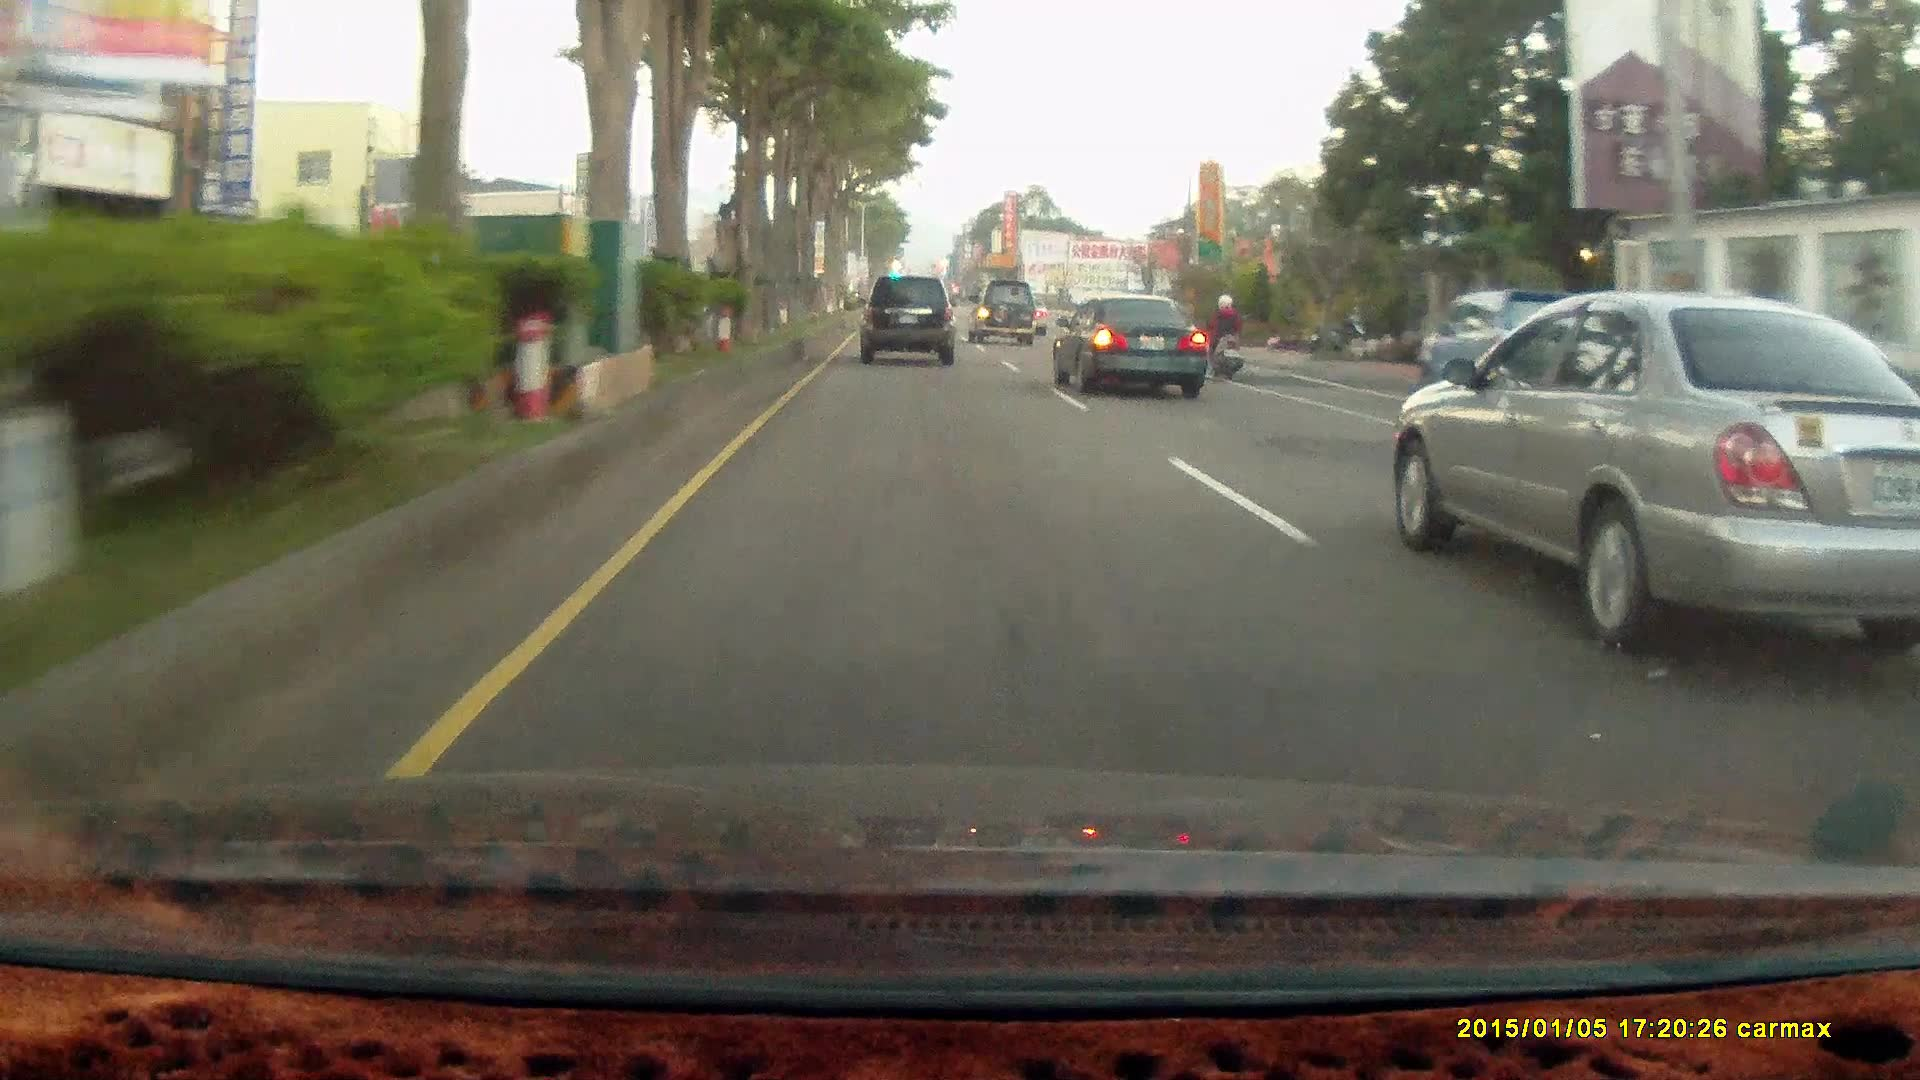rider: (1199, 287, 1249, 384), (1201, 291, 1246, 381)
vehicle: (1396, 299, 1920, 662), (1414, 286, 1604, 402), (1413, 287, 1604, 393), (1051, 294, 1208, 400), (1055, 297, 1212, 400), (860, 277, 963, 371), (855, 273, 954, 364), (967, 280, 1037, 349), (967, 279, 1037, 344)
